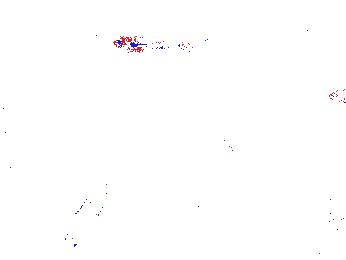X-ray fish: (216, 180, 235, 216)
glassfish: (67, 170, 121, 255), (148, 117, 244, 163)
red belly glassfish: (174, 34, 240, 57), (113, 36, 170, 52), (302, 23, 332, 40)
